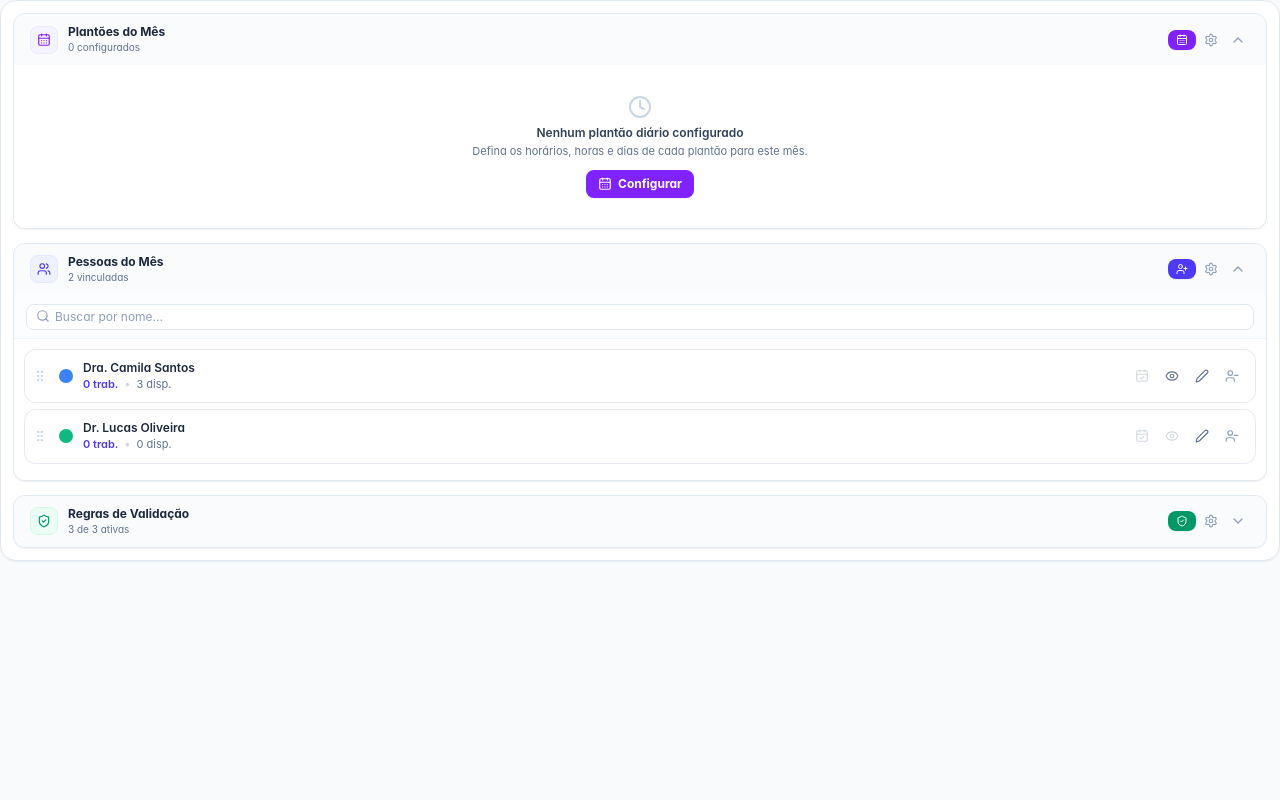
Test: Sidebar (month panel) › does not show violations in the sidebar rules section
Click the text "Regras de Validação".
click(129, 514)  # box [68,506,189,522]
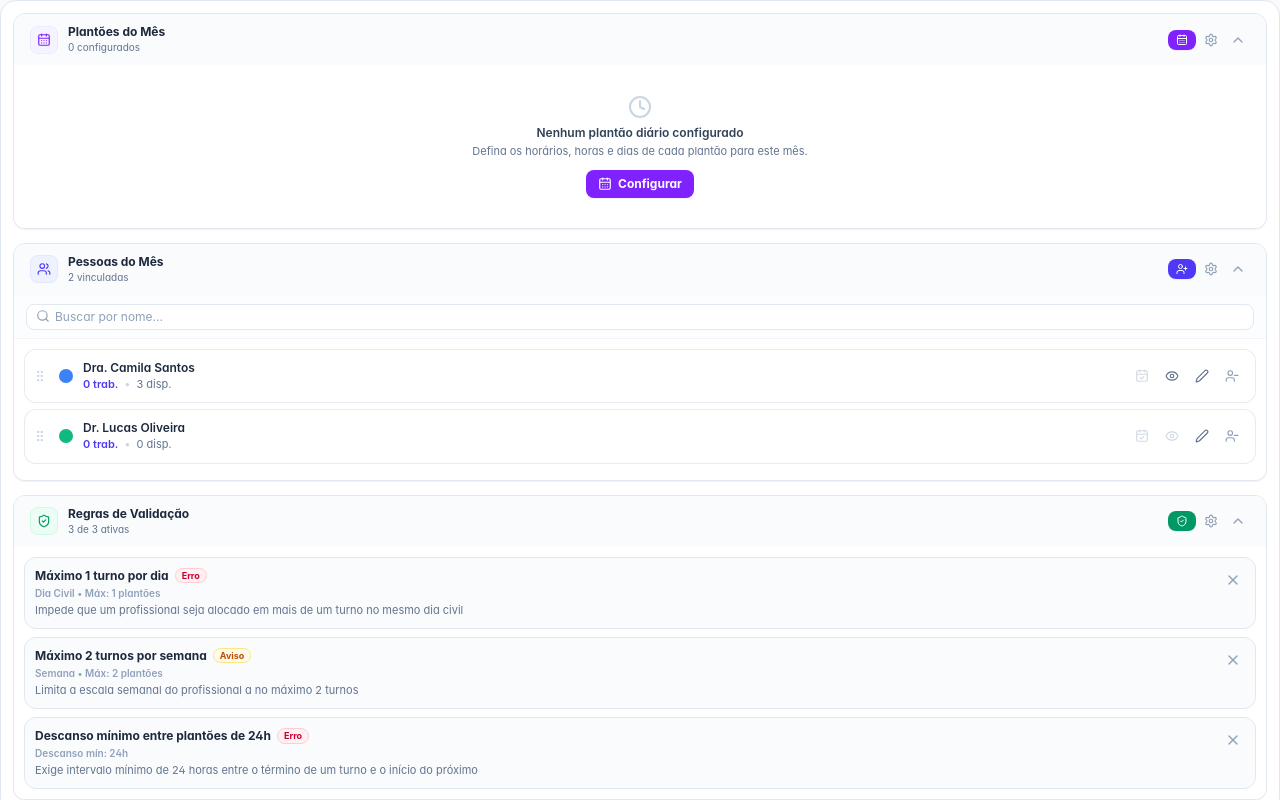
Check: the text "Máximo 1 turno por dia" is shown, box [35,568,169,584]
